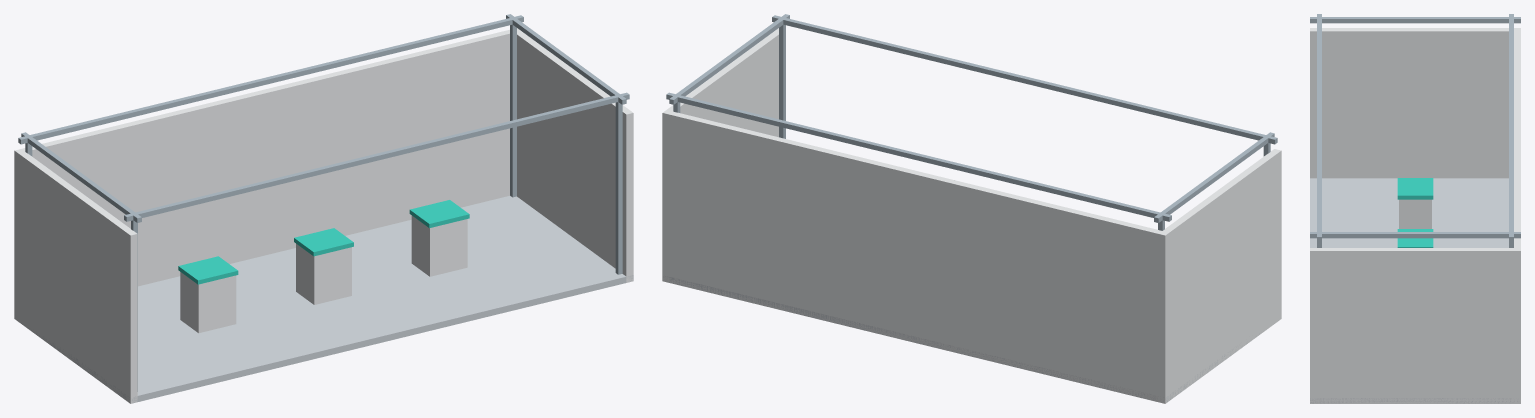
3 renders of one model, left to right at view 1: azimuth 30°, elevation 25°; view 2: azimuth 150°, elevation 25°; view 3: azimuth 270°, elevation 25°, orthographic. The views are drawn at different scales.
Parts seen in each view (by area): view 1: Exhibition Booth Concept; view 2: Exhibition Booth Concept; view 3: Exhibition Booth Concept.
Boxes of the visible parts, x1,y1,x2,y2 form: Exhibition Booth Concept: (14, 14, 633, 403); Exhibition Booth Concept: (662, 14, 1281, 403); Exhibition Booth Concept: (1310, 14, 1520, 403).
Bounding box in the file's own units: 10 × 3.49 × 4.
